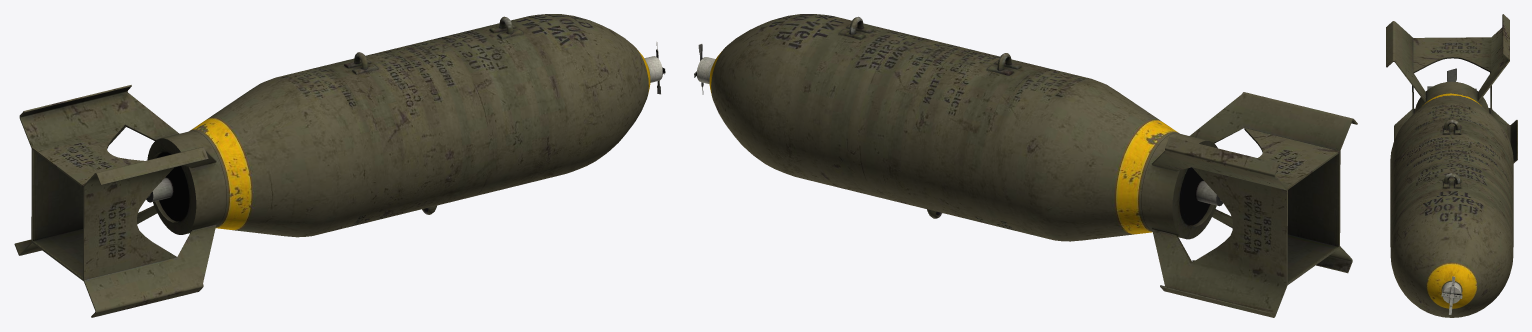
File: us_500_lb_an-m64a1_bomb_war_thunder.glb
3 views of the same model, side by side, from view 1: azimuth 30°, elevation 25°; view 2: azimuth 150°, elevation 25°; view 3: azimuth 270°, elevation 25° (orthographic). The views are drawn at different scales.
Parts seen in each view (by area): view 1: Object_2; view 2: Object_2; view 3: Object_2.
Boxes of the visible parts, x1,y1,x2,y2 form: Object_2: (14,14,665,317); Object_2: (694,14,1357,317); Object_2: (1386,14,1517,317).
Bounding box in the file's own units: 1.5 × 0.4225 × 0.3757.
Materials: 1 (1 with a texture image).
